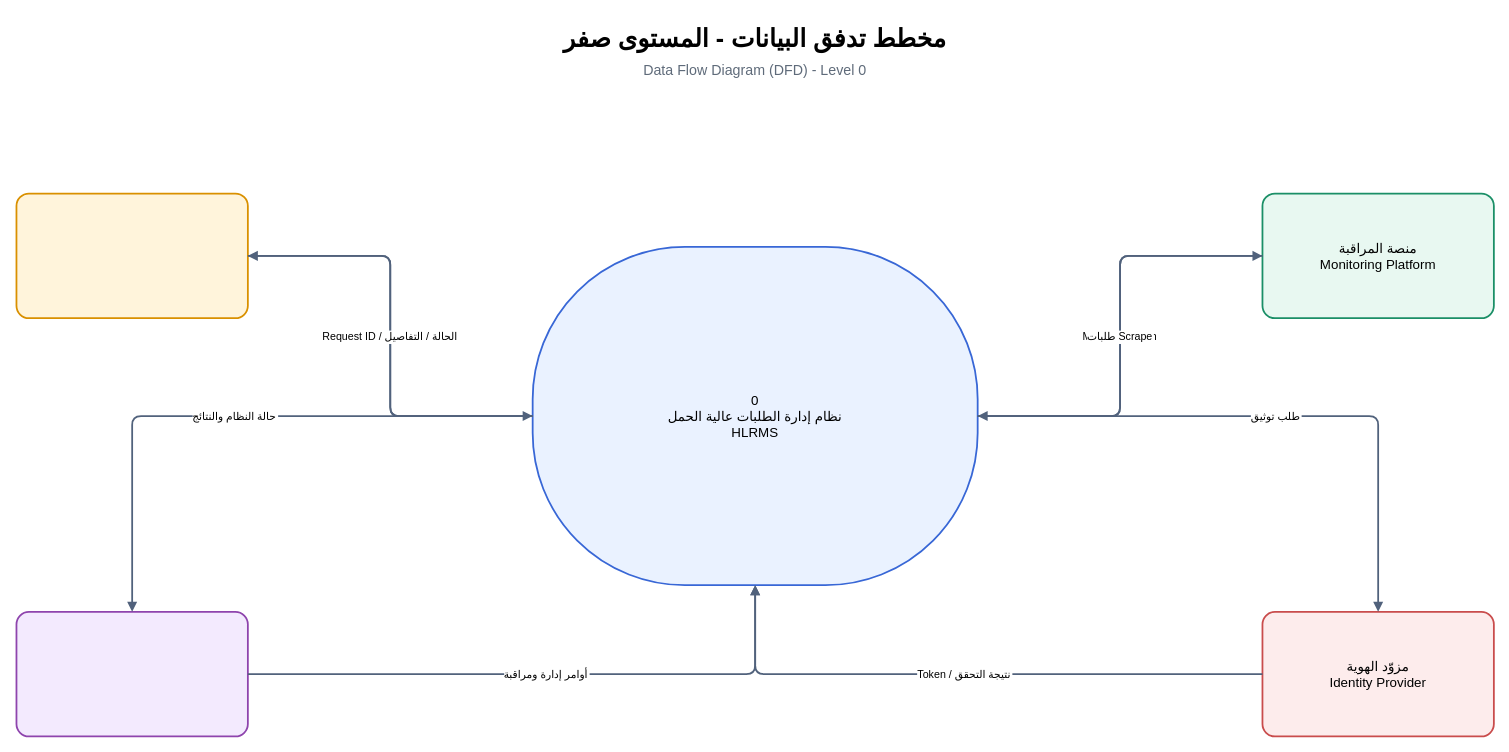
The diagram is 1509 pixels wide and 752 high, and some of its shapes have lost their labels. Each missing label, with the centre of its shape:
"النظام العميل Client System" belongs at point (131, 255).
"مسؤول النظام System Administrator" belongs at point (131, 674).
